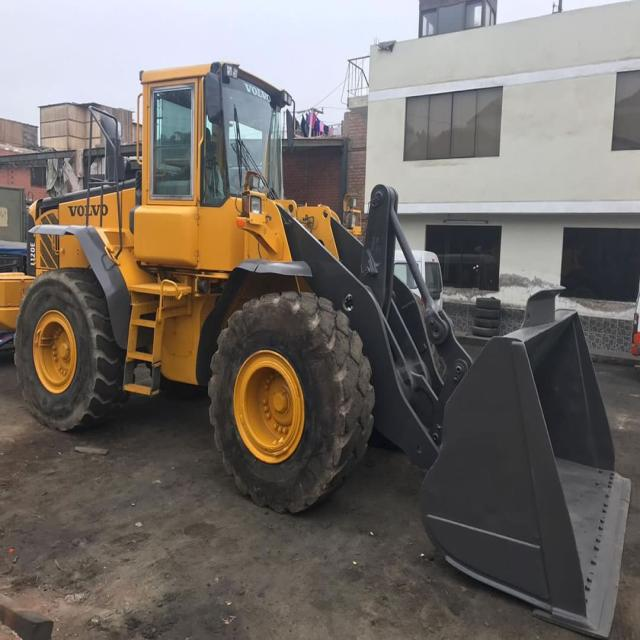buldozerpayloadergrader: (22, 61, 630, 634)
